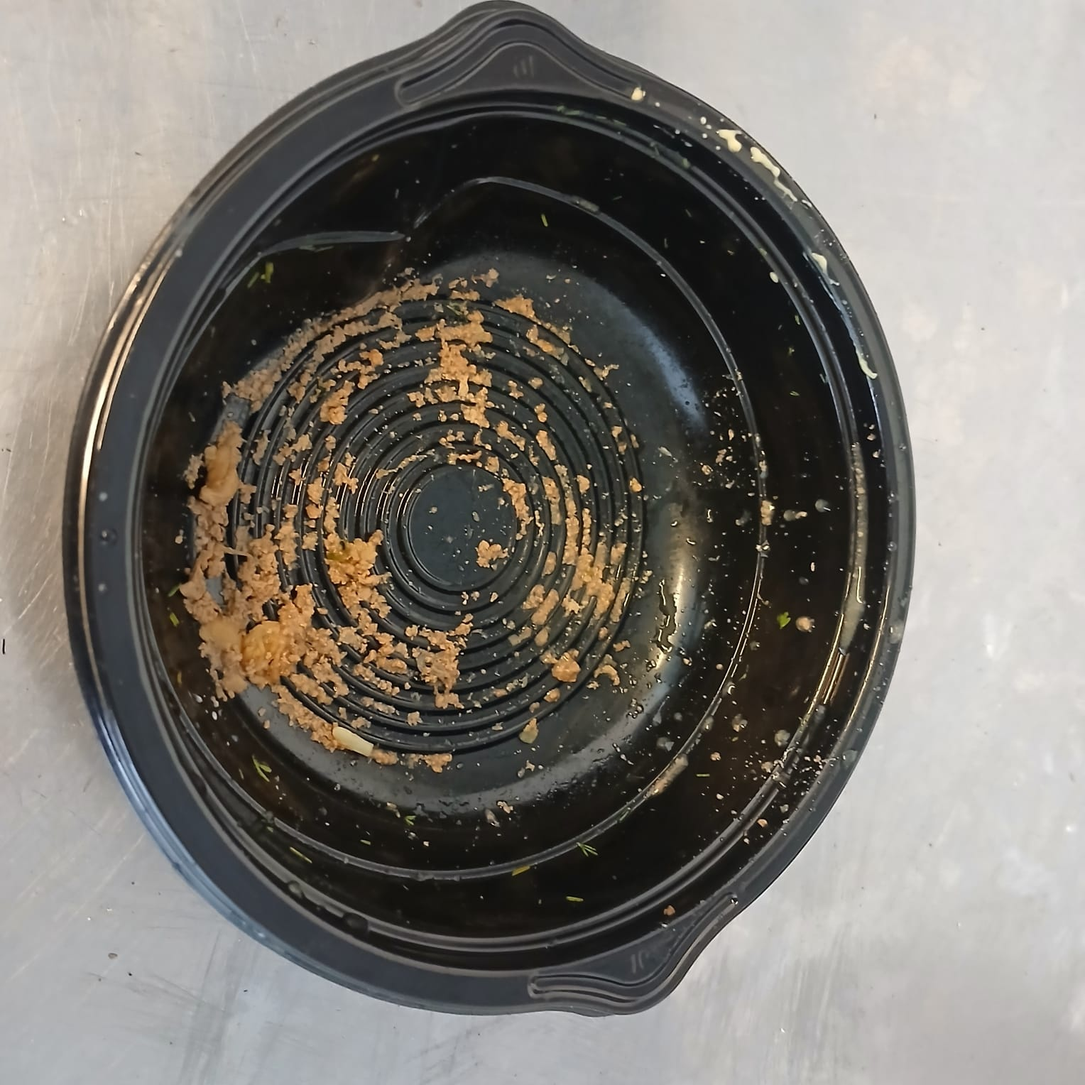Ordinario: (61, 3, 912, 1018)
